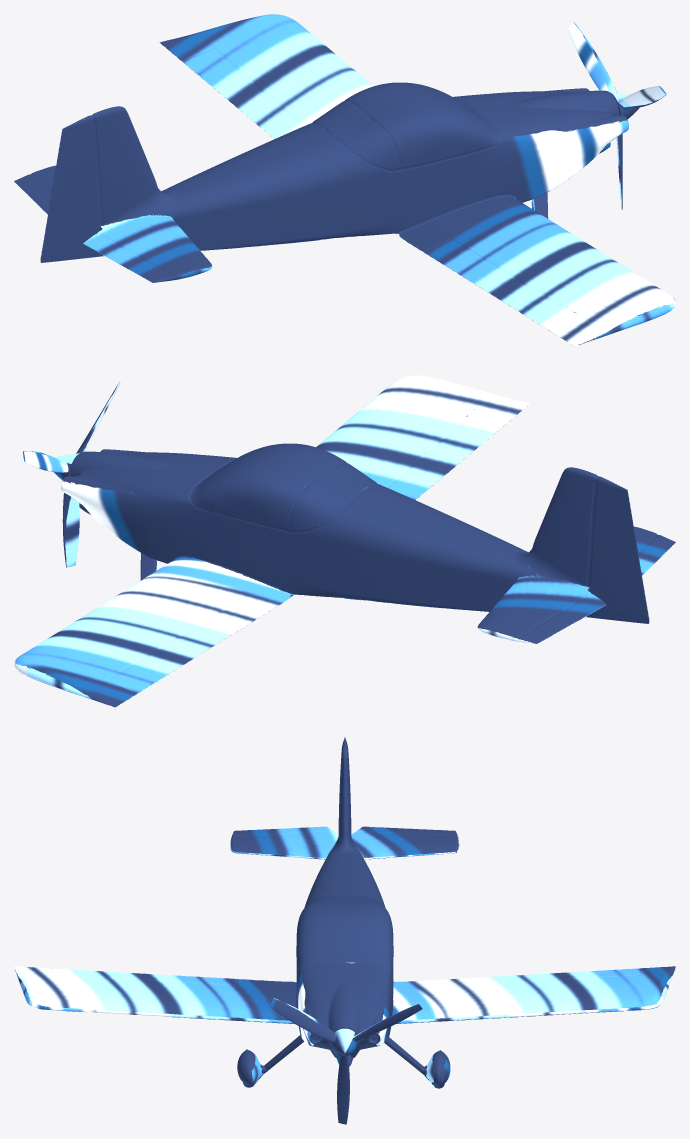
3 renders of one model, top to bottom at view 1: azimuth 30°, elevation 25°; view 2: azimuth 150°, elevation 25°; view 3: azimuth 270°, elevation 25°, orthographic. The views are drawn at different scales.
Visible parts, largest first — view 1: RV-7_Chassis_Hi; view 2: RV-7_Chassis_Hi; view 3: RV-7_Chassis_Hi.
Boxes of the visible parts, x1,y1,x2,y2 form: RV-7_Chassis_Hi: (14,14,675,346); RV-7_Chassis_Hi: (14,375,675,707); RV-7_Chassis_Hi: (14,737,675,1124).
Size of the model in its own units: 6.39 by 2.41 by 7.62.
Materials: 1 (1 with a texture image).
